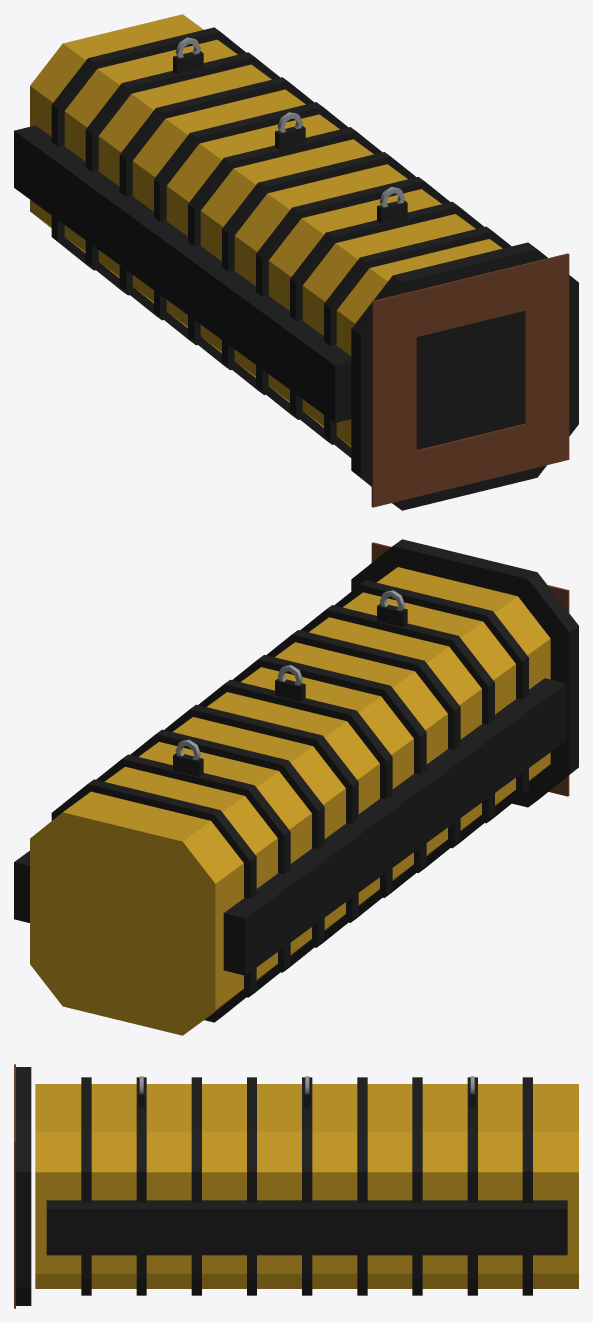
File: md40_coil.obj
3 views of the same model, one above another, from view 1: azimuth 30°, elevation 25°; view 2: azimuth 150°, elevation 25°; view 3: azimuth 270°, elevation 25° (orthographic). The views are drawn at different scales.
Visible parts, largest first — view 1: md40_coil; view 2: md40_coil; view 3: md40_coil.
Part boxes in pixels (x1=…): md40_coil: x1=14, y1=14, x2=578, y2=510; md40_coil: x1=14, y1=539, x2=578, y2=1035; md40_coil: x1=14, y1=1064, x2=578, y2=1308.
Size of the model in its own units: 2.12 by 2.19 by 5.53.
